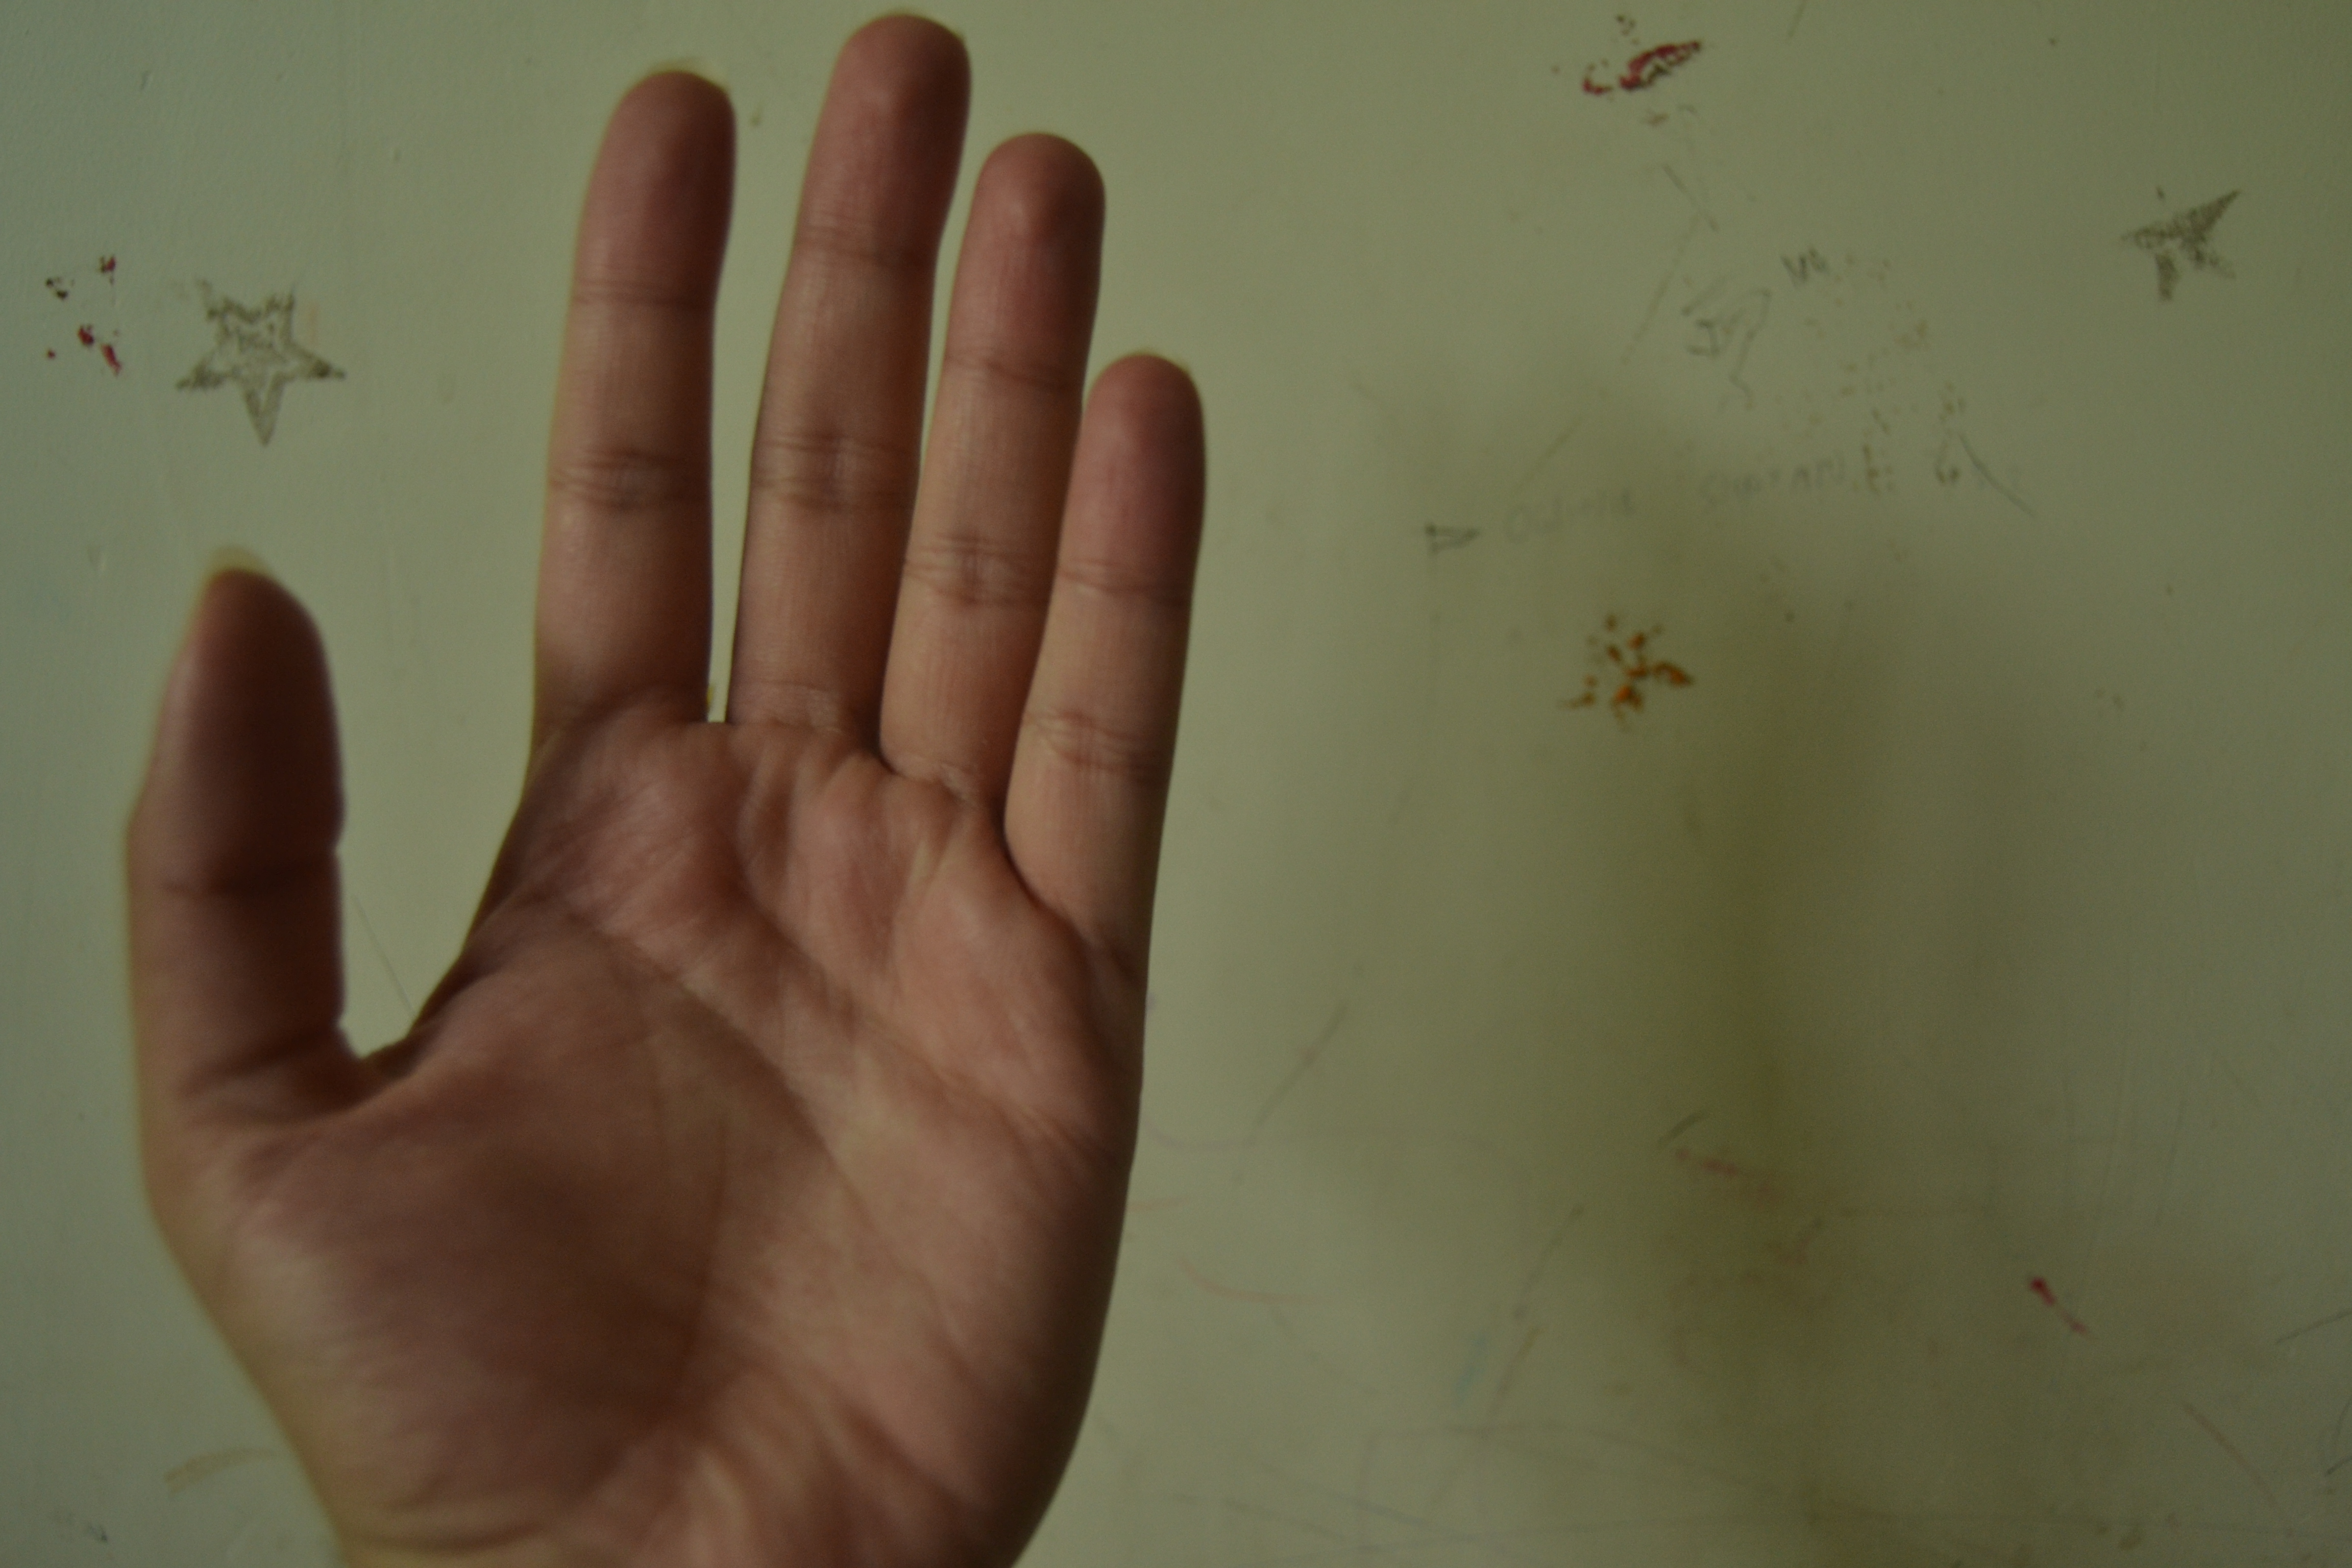move: (138, 33, 1346, 1543)
